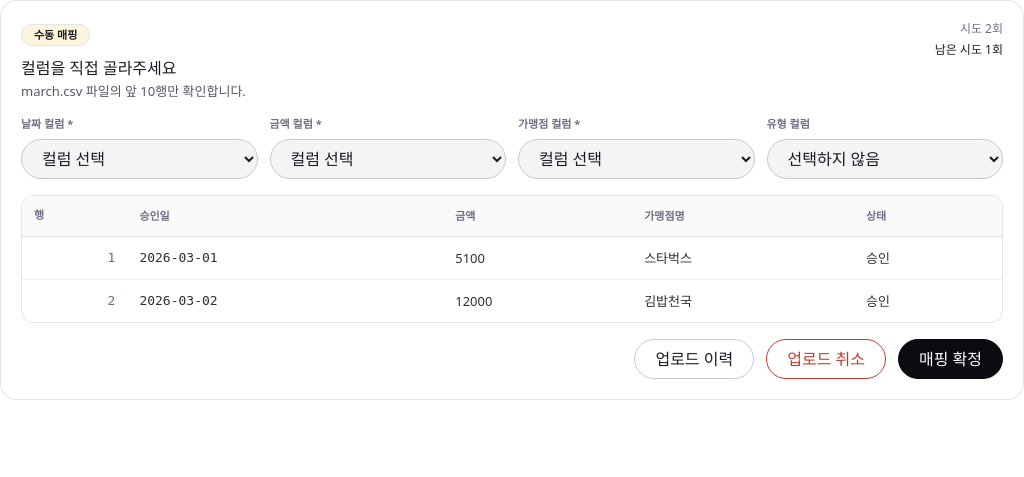
Scenario: ManualMappingForm › shows the required-column error before posting an incomplete mapping
The image size is (1024, 477).
Expected: the text "남은 시도 1회" is shown, top-left (935, 42), bottom-right (1003, 59)
What coordinates should you click on to do the following:
click the button "매핑 확정"
I would click on:
 (950, 359)
Its box is top-left (898, 339), bottom-right (1003, 379).
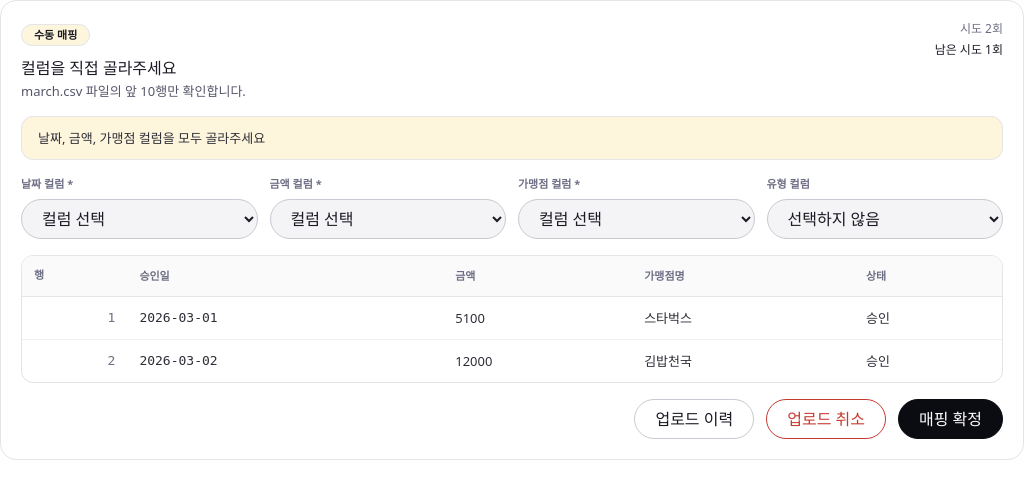
Now the text "날짜, 금액, 가맹점 컬럼을 모두 골라주세요" is shown, box top-left (21, 116), bottom-right (1003, 160)
